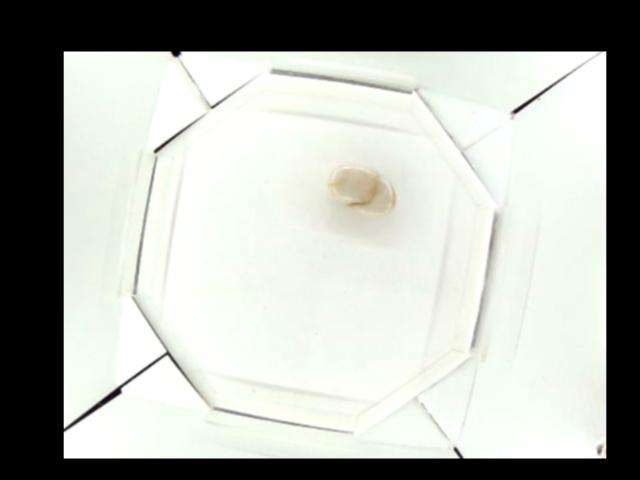Pebble: (330, 160, 399, 221)
